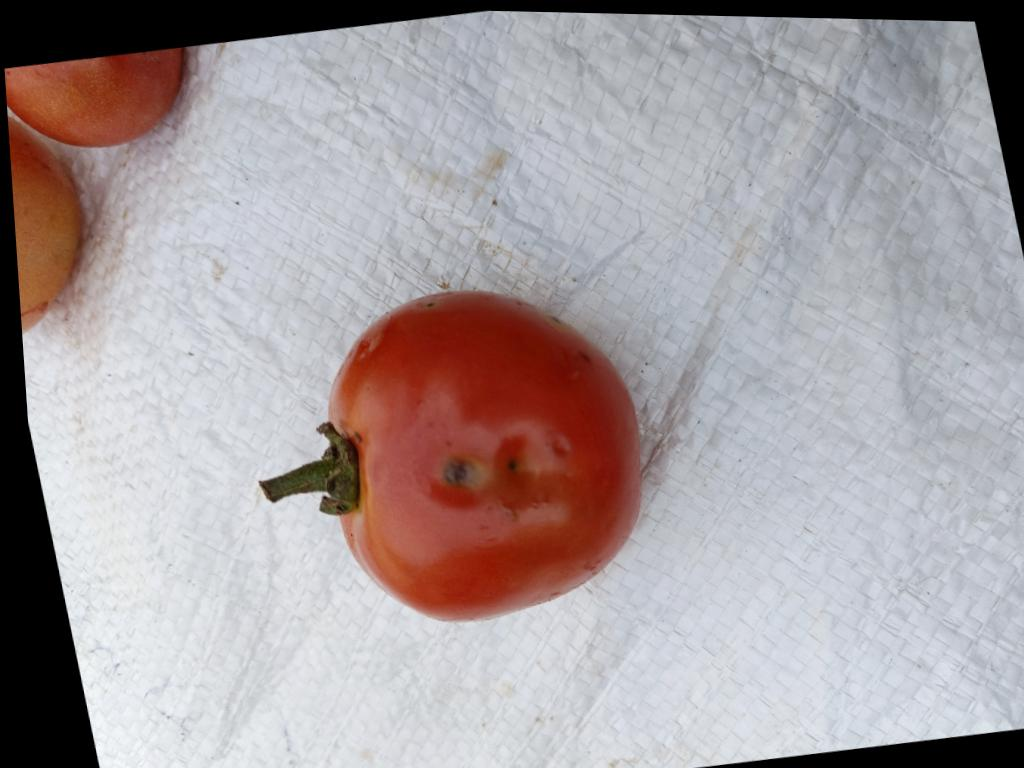rot_mold_decay: (443, 458, 478, 487)
tomato: (261, 291, 641, 621)
